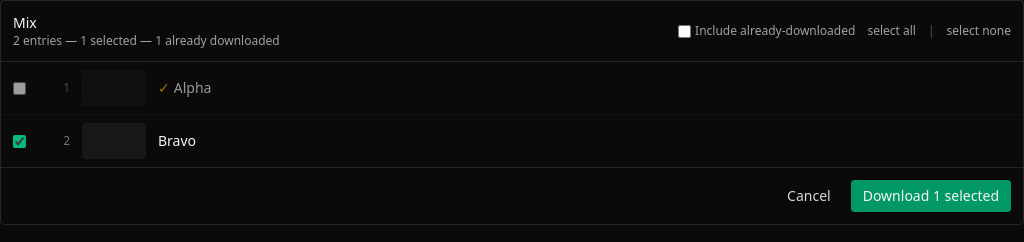
Scenario: PreviewPanel › Include-already-downloaded toggle is off by default and unchecks duplicates
expect the button "Download 1 selected" is shown: met, box [851,180,1011,212]
Click the checkbox labelled "Include already-downloaded": [685, 31] box [678,24,691,38]
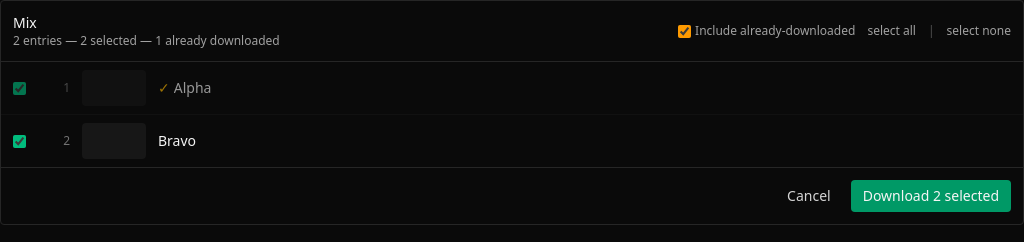
expect the checkbox labelled "Include already-downloaded" is checked: met, box [678,24,691,38]
expect the button "Download 2 selected" is shown: met, box [851,180,1011,212]
